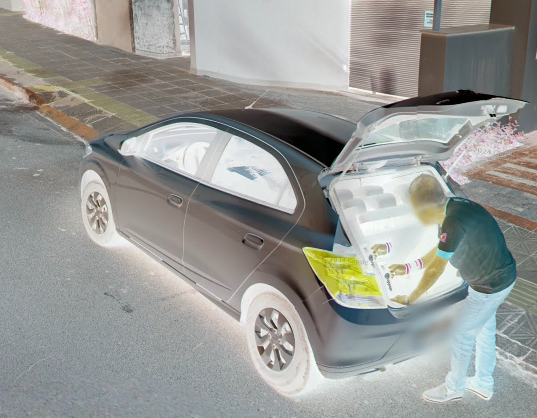car: (78, 105, 498, 400)
